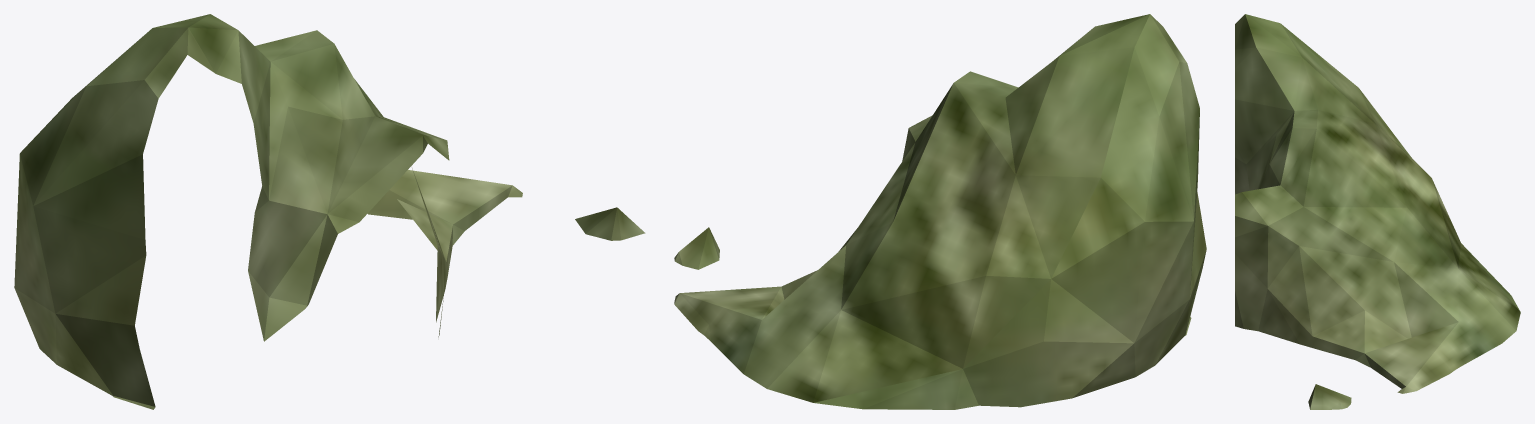
3 renders of one model, left to right at view 1: azimuth 30°, elevation 25°; view 2: azimuth 150°, elevation 25°; view 3: azimuth 270°, elevation 25°, orthographic. The views are drawn at different scales.
Bounding box in the file's own units: 1.49 × 0.8537 × 0.9357.
1 material, 1 textured.
